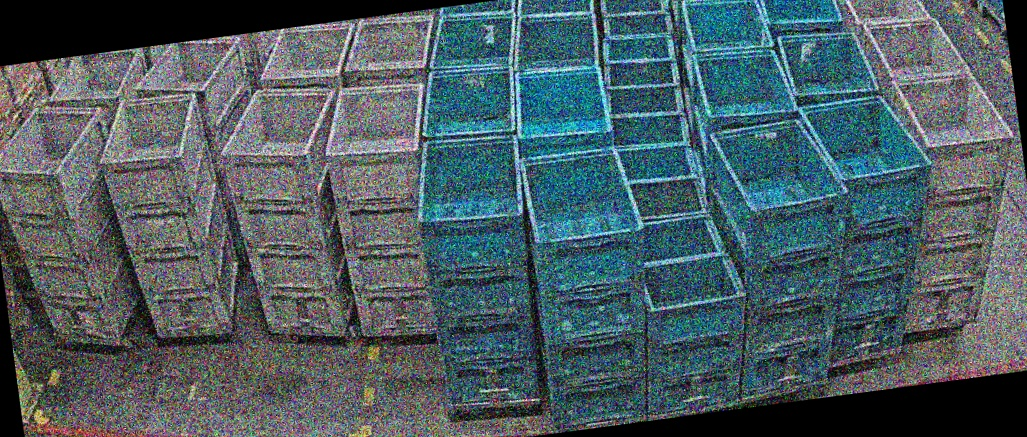4G: (870, 64, 1027, 334), (213, 79, 367, 349), (92, 88, 247, 348), (0, 97, 146, 355), (317, 78, 457, 345)
B4: (704, 107, 870, 399), (796, 89, 956, 363), (519, 143, 670, 431), (407, 130, 552, 411)
B8: (623, 210, 761, 416)
